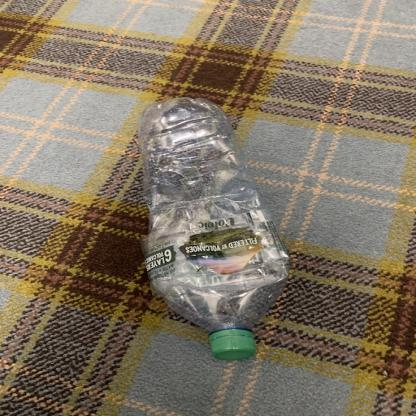plastic-bottles: (115, 98, 296, 360)
